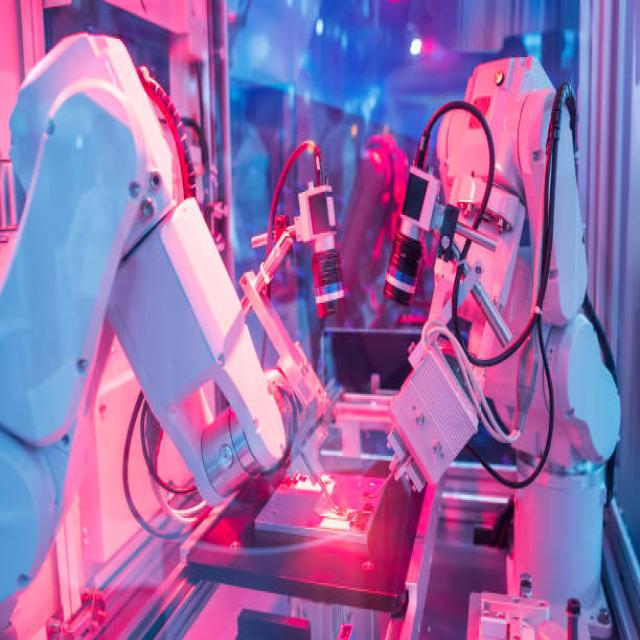Robotic-arm: (0, 32, 328, 612), (383, 43, 629, 627)
